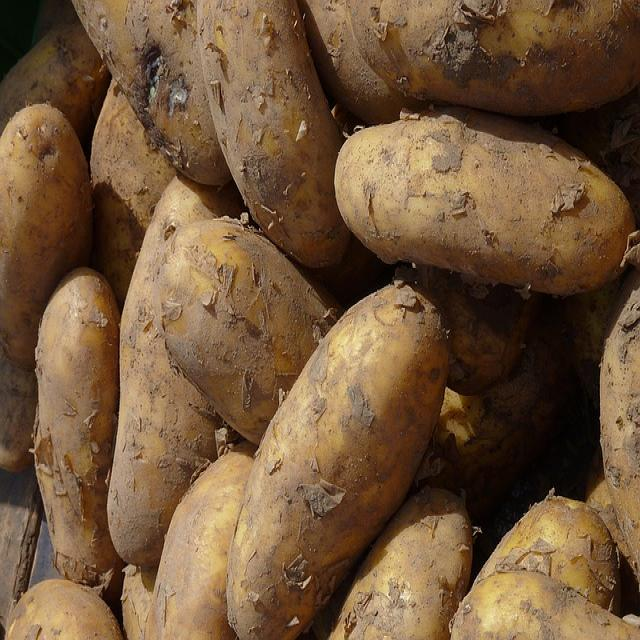potato: (229, 279, 447, 640), (327, 120, 631, 288), (37, 276, 126, 584)
